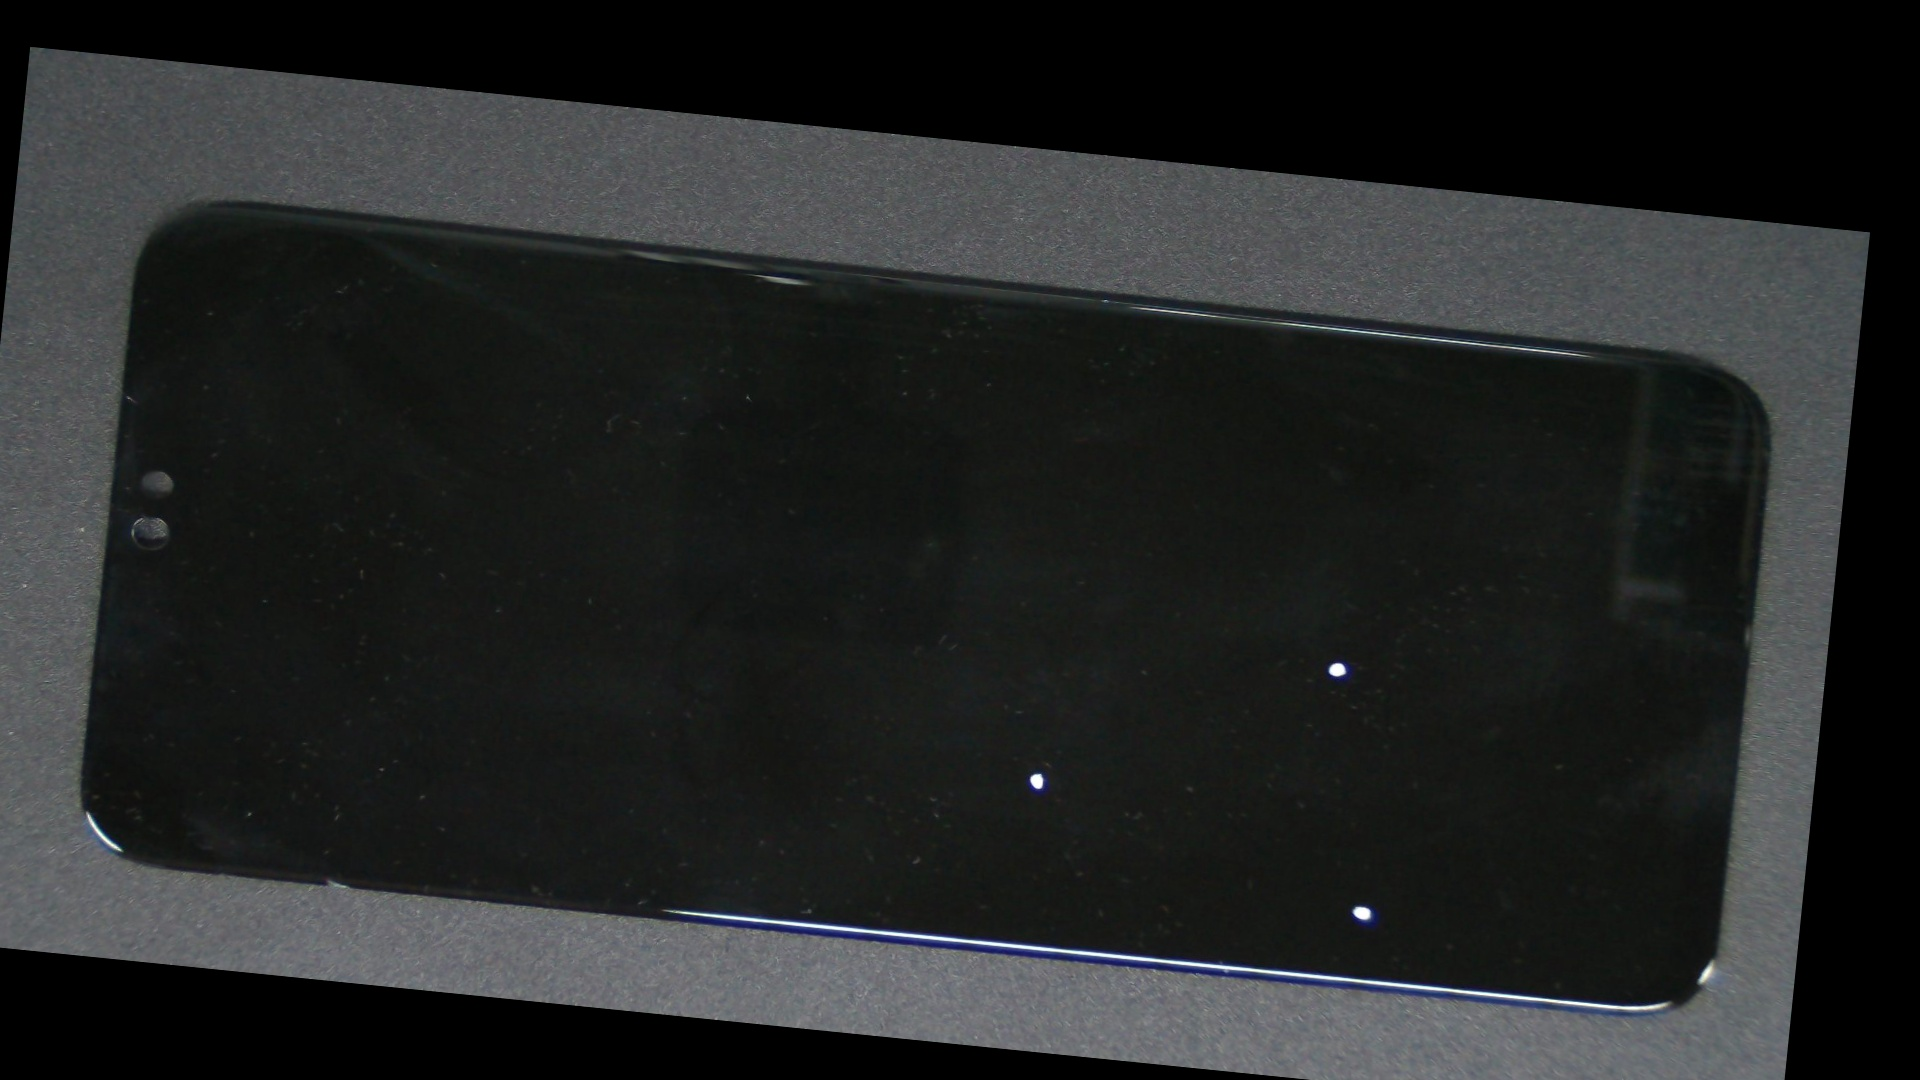oil: (475, 409, 1600, 1080), (637, 475, 1834, 1080), (637, 353, 1846, 947)
